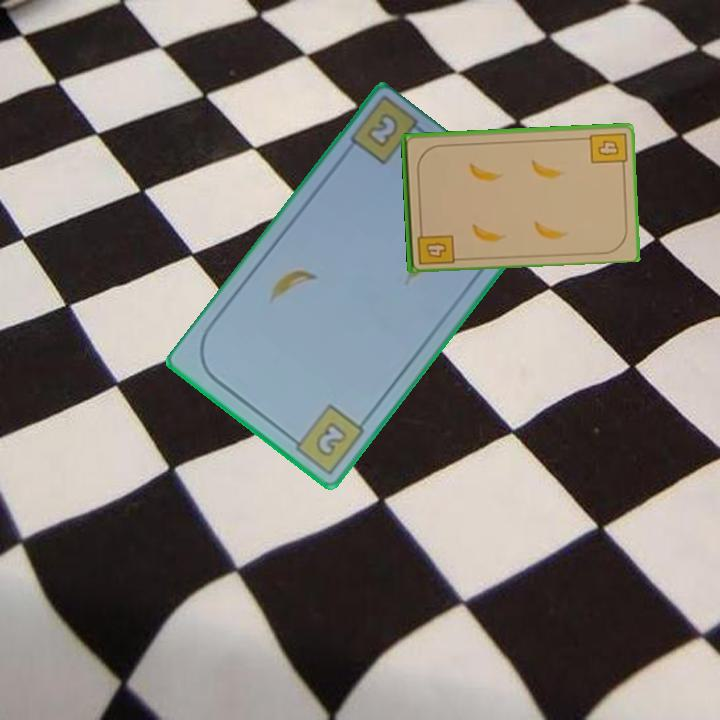2b: (284, 400, 368, 477), (363, 110, 402, 151)
4b: (413, 223, 456, 267), (585, 129, 628, 172)
